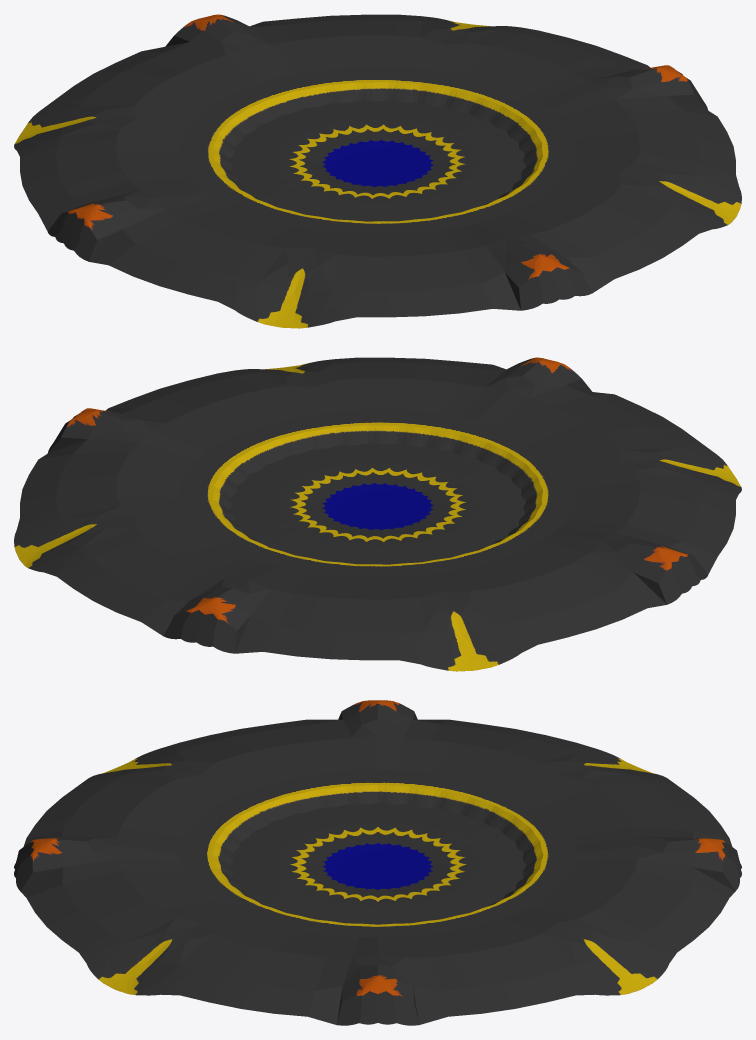
The model's file is Flat_Portal_v2_0_03_unwrapped_realigned_NOT_flipped_03.fbx.
The picture shows the model from 3 angles, top to bottom: view 1: azimuth 30°, elevation 25°; view 2: azimuth 150°, elevation 25°; view 3: azimuth 270°, elevation 25°; orthographic projection.
Visible parts, largest first — view 1: Sphere; view 2: Sphere; view 3: Sphere.
Boxes of the visible parts, x1,y1,x2,y2 form: Sphere: [14, 14, 741, 328]; Sphere: [14, 357, 741, 671]; Sphere: [14, 700, 741, 1025].
Size of the model in its own units: 747 by 44.73 by 747.
1 material, 1 textured.
